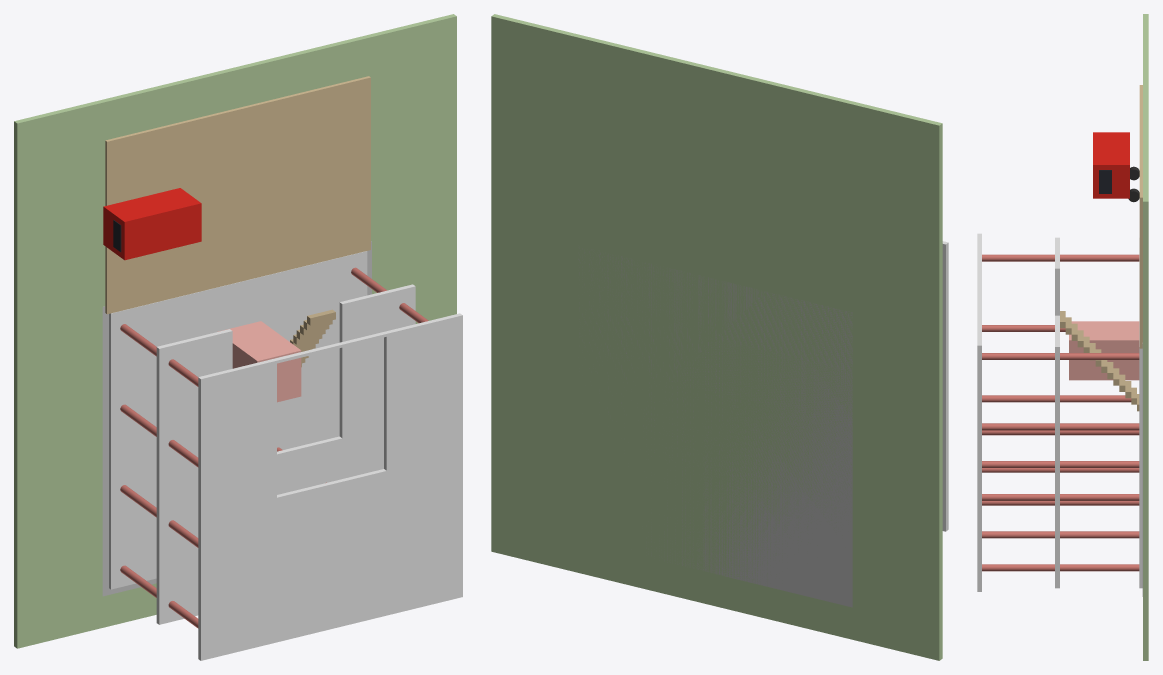
Rendered from frame.glb.
3 renders of one model, left to right at view 1: azimuth 30°, elevation 25°; view 2: azimuth 150°, elevation 25°; view 3: azimuth 270°, elevation 25°, orthographic. The views are drawn at different scales.
Visible parts, largest first — view 1: 敷地(芝生), 屋根(コの字), テラスデッキ, 1F 床, 2F 床(コの字), キッチンカー_車体, 大ぬいぐるみ, 基礎, 階段, 柱_1, 柱_3, 柱_2 (+1 smaller); view 2: 敷地(芝生), 基礎, 屋根(コの字); view 3: 敷地(芝生), 大ぬいぐるみ, キッチンカー_車体, 屋根(コの字), 2F 床(コの字), 階段, 柱_11, 柱_4, 柱_7, 柱_9, 柱_2, 1F 床 (+9 smaller).
Part boxes in pixels (x1,y1,x2,y2): 敷地(芝生): (14, 14, 456, 648); 屋根(コの字): (198, 313, 462, 660); テラスデッキ: (105, 76, 370, 314); 1F 床: (109, 251, 367, 589); 2F 床(コの字): (156, 284, 415, 624); キッチンカー_車体: (103, 188, 201, 260); 大ぬいぐるみ: (217, 321, 301, 402); 基礎: (102, 241, 371, 596); 階段: (290, 309, 335, 367); 柱_1: (120, 565, 198, 628); 柱_3: (120, 404, 198, 467); 柱_2: (120, 485, 198, 547); 敷地(芝生): (491, 14, 942, 660); 基礎: (578, 248, 852, 607); 屋根(コの字): (942, 241, 948, 531); 敷地(芝生): (1143, 14, 1148, 660); 大ぬいぐるみ: (1069, 321, 1139, 380); キッチンカー_車体: (1093, 132, 1129, 198); 屋根(コの字): (977, 233, 981, 591); 2F 床(コの字): (1055, 237, 1059, 588); 階段: (1060, 311, 1139, 411); 柱_11: (982, 423, 1139, 430); 柱_4: (982, 254, 1139, 261); 柱_7: (982, 531, 1139, 538); 柱_9: (982, 564, 1139, 571); 柱_2: (982, 395, 1131, 402); 1F 床: (1139, 238, 1142, 588).
Bounding box in the file's own units: 24000 × 27400 × 9260.
